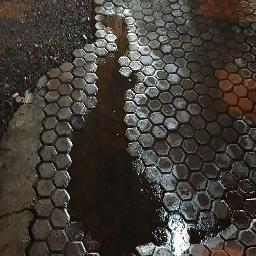water accumulation: (65, 12, 231, 256)
